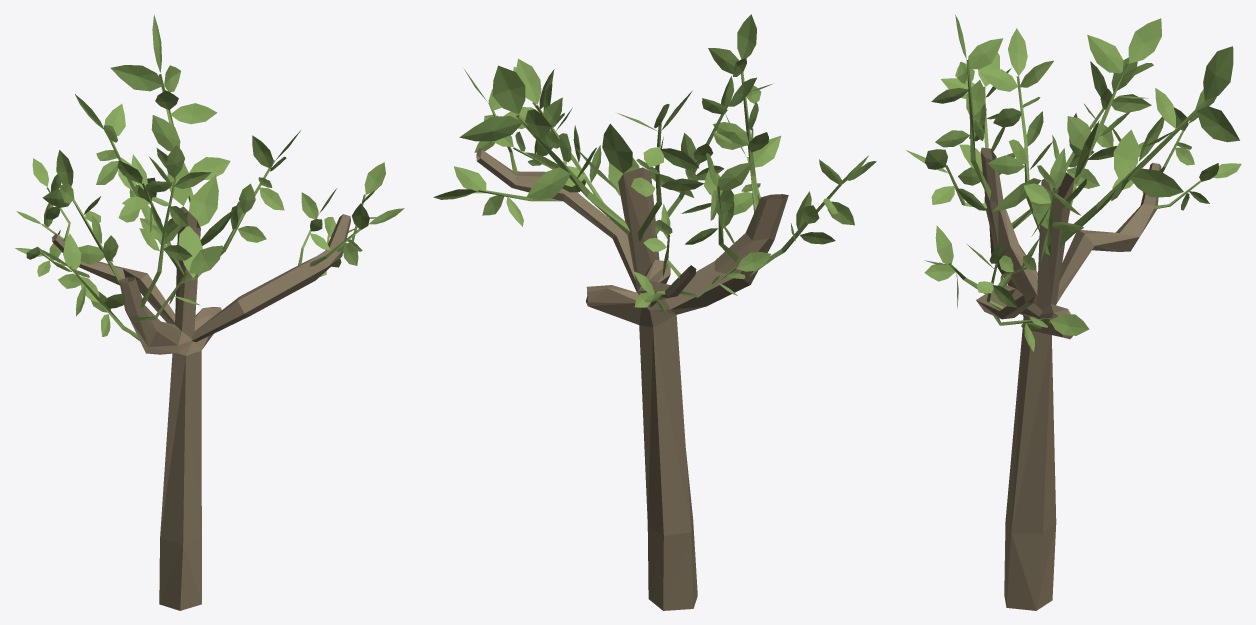
Rendered from Apple_3_2.fbx.
3 views of the same model, side by side, from view 1: azimuth 30°, elevation 25°; view 2: azimuth 150°, elevation 25°; view 3: azimuth 270°, elevation 25° (orthographic). The views are drawn at different scales.
Parts seen in each view (by area): view 1: Apple_3_2; view 2: Apple_3_2; view 3: Apple_3_2.
Boxes of the visible parts, bbox=[...] form: Apple_3_2: bbox=[15, 14, 404, 610]; Apple_3_2: bbox=[433, 14, 876, 610]; Apple_3_2: bbox=[906, 15, 1241, 610].
Size of the model in its own units: 151 by 209 by 108.
